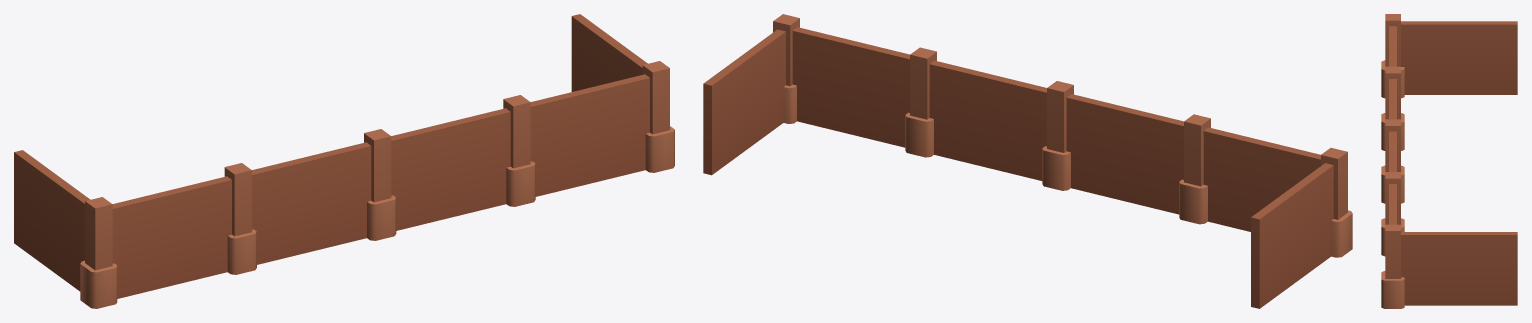
Rendered from fence-1x4.glb.
3 renders of one model, left to right at view 1: azimuth 30°, elevation 25°; view 2: azimuth 150°, elevation 25°; view 3: azimuth 270°, elevation 25°, orthographic. The views are drawn at different scales.
Visible parts, largest first — view 1: fence-1x4; view 2: fence-1x4; view 3: fence-1x4.
Boxes of the visible parts, box(x1,y1,x2,y2) form: fence-1x4: box(14, 14, 674, 308); fence-1x4: box(703, 14, 1352, 308); fence-1x4: box(1381, 14, 1517, 308).
Size of the model in its own units: 1.68 by 0.27 by 0.4375.
